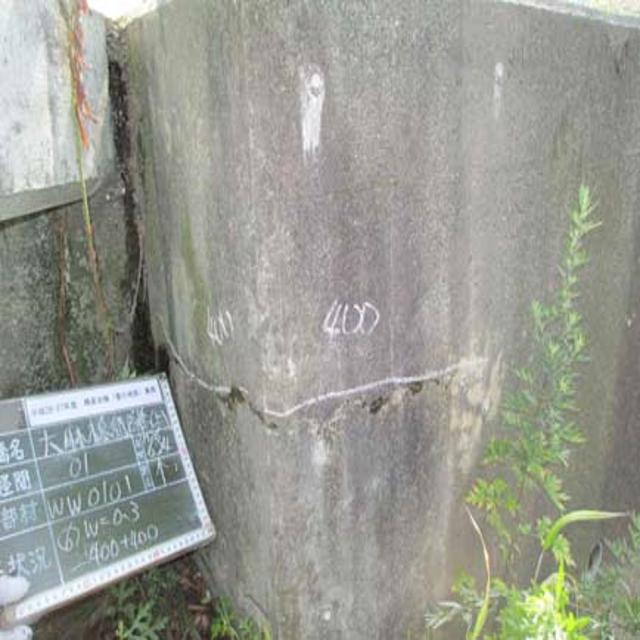crack: (153, 331, 503, 436)
